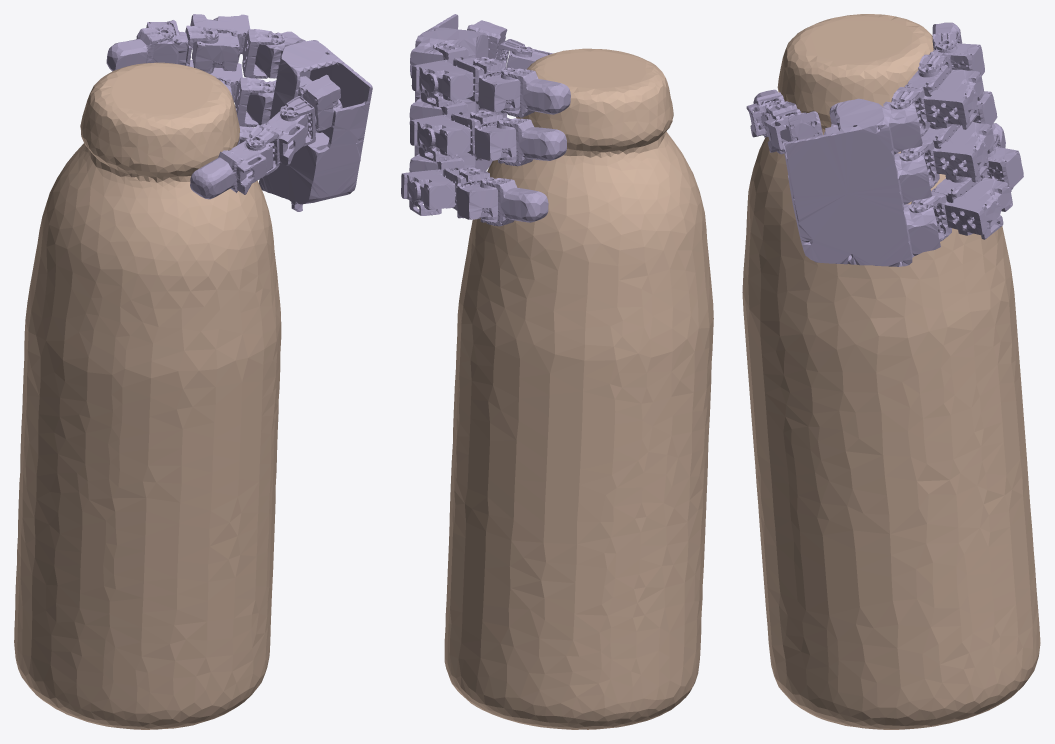
The model's file is case-04-final.glb.
The picture shows the model from 3 angles, left to right: view 1: azimuth 30°, elevation 25°; view 2: azimuth 150°, elevation 25°; view 3: azimuth 270°, elevation 25°; orthographic projection. The views are drawn at different scales.
Visible parts, largest first — view 1: simplified.obj, world; view 2: simplified.obj, world; view 3: simplified.obj, world.
Boxes of the visible parts, x1=… form: simplified.obj: x1=14, y1=62, x2=281, y2=729; world: x1=106, y1=14, x2=372, y2=211; simplified.obj: x1=444, y1=48, x2=713, y2=729; world: x1=401, y1=14, x2=570, y2=226; simplified.obj: x1=742, y1=14, x2=1040, y2=729; world: x1=746, y1=22, x2=1023, y2=266.
Size of the model in its own units: 0.2638 by 0.5597 by 0.2246.
